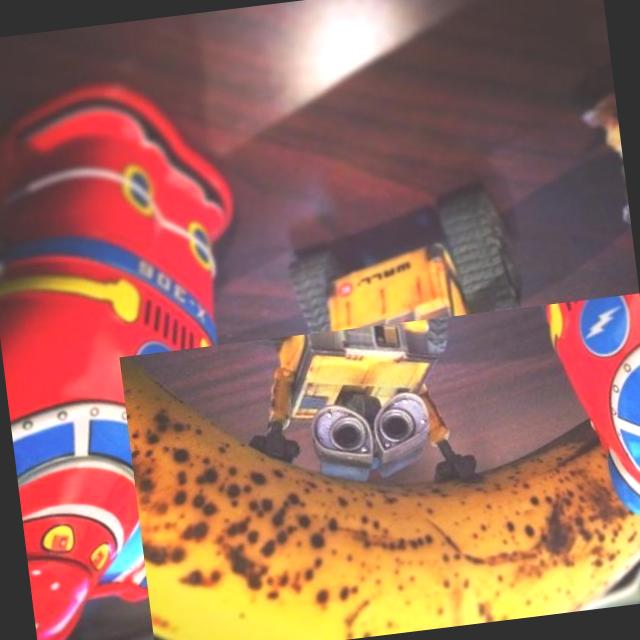Banana: (119, 292, 640, 640)
